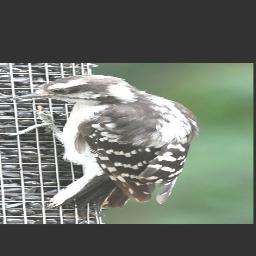Woodpecker: (5, 74, 199, 213)
